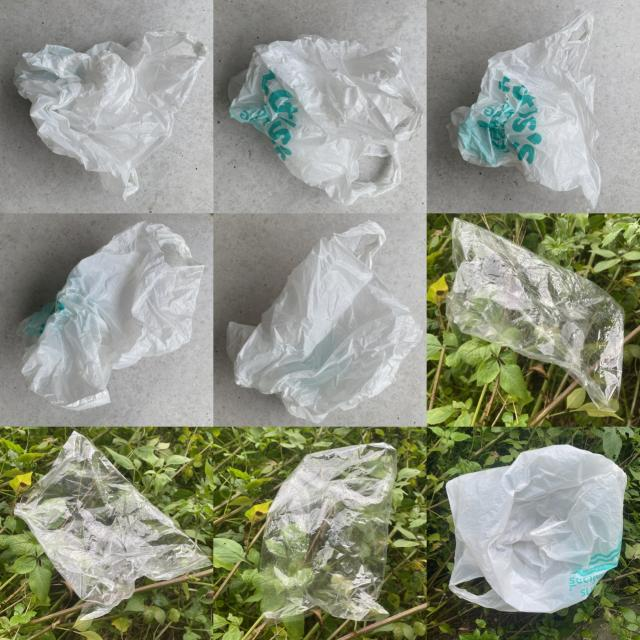Single-layer Plastic: (228, 221, 424, 424), (15, 431, 210, 619), (18, 221, 204, 410), (446, 219, 624, 410), (229, 35, 422, 204), (15, 31, 208, 198), (448, 11, 601, 208), (446, 445, 626, 612), (260, 442, 396, 624)
